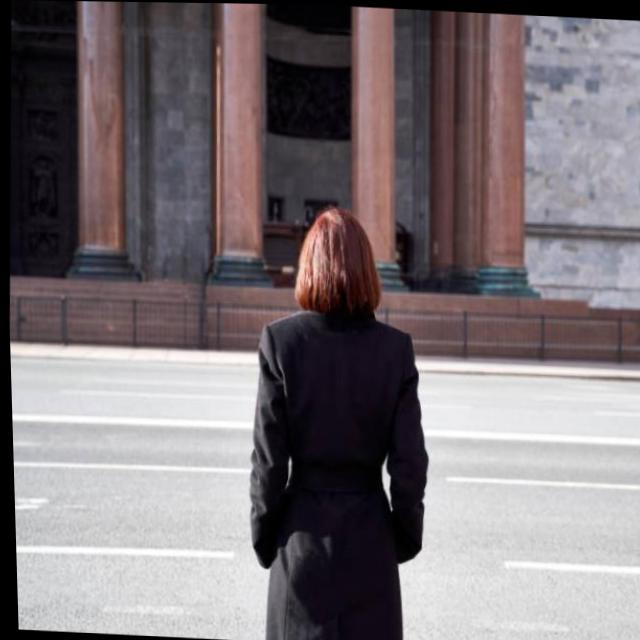no helmet: (284, 199, 383, 309)
